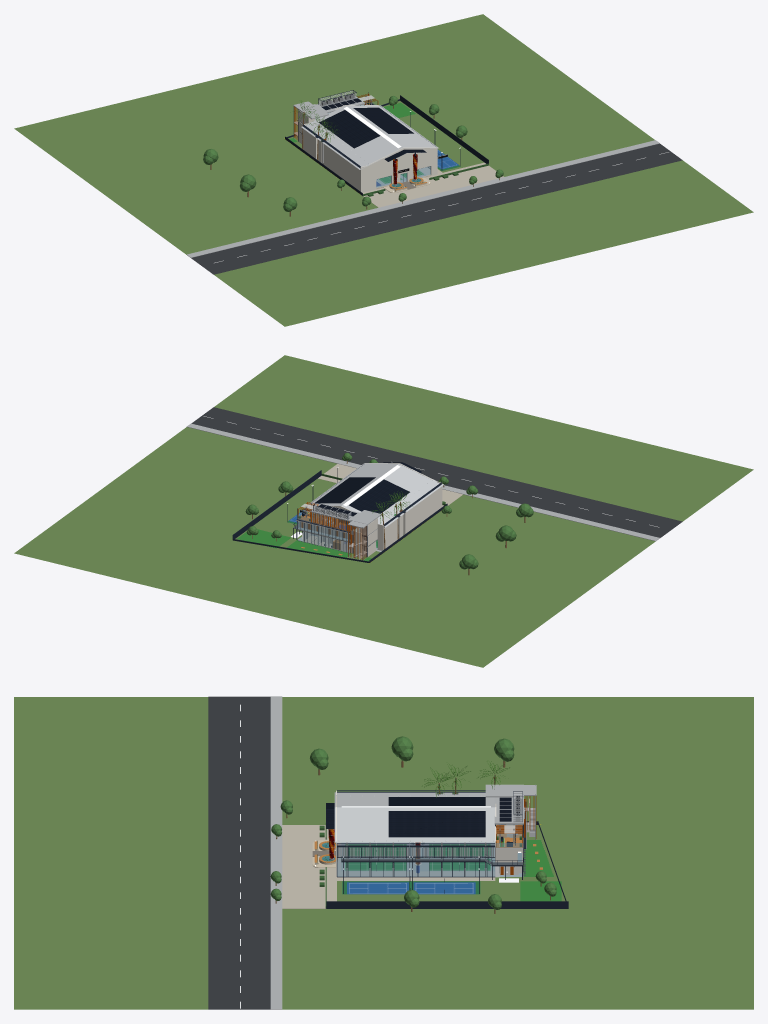
Rendered from MyPlace_Master_vR45.dae.
3 views of the same model, one above another, from view 1: azimuth 30°, elevation 25°; view 2: azimuth 150°, elevation 25°; view 3: azimuth 270°, elevation 25° (orthographic). The views are drawn at different scales.
Visible parts, largest first — view 1: site__grass, site__asphalt, hall_shell__plaster, hall_roof__roofSheet, site__concrete, hall_roof__solar, site__paving, trees__treeCrown, fences__charcoal; view 2: site__grass, site__asphalt, hall_roof__roofSheet, site__concrete, hall_roof__solar, hall_shell__plaster, trees__treeCrown, fences__charcoal, outdoor__turf, site__paving, rear_roof__concrete; view 3: site__grass, site__asphalt, site__concrete, hall_roof__roofSheet, site__paving, hall_shell__glass, hall_roof__solar, trees__treeCrown, hall_interior__court, fences__charcoal, hall_shell__charcoal, outdoor__pickleTex (+7 smaller).
Part boxes in pixels (x1,y1,x2,y2): site__grass: [14, 14, 753, 326]; site__asphalt: [191, 143, 682, 274]; hall_shell__plaster: [302, 105, 437, 192]; hall_roof__roofSheet: [301, 105, 438, 169]; site__concrete: [187, 140, 659, 257]; hall_roof__solar: [319, 107, 413, 148]; site__paving: [362, 162, 503, 207]; trees__treeCrown: [203, 96, 503, 211]; fences__charcoal: [285, 95, 488, 195]; site__grass: [14, 355, 753, 667]; site__asphalt: [191, 407, 682, 537]; hall_roof__roofSheet: [309, 463, 443, 527]; site__concrete: [186, 423, 659, 551]; hall_roof__solar: [314, 477, 409, 513]; hall_shell__plaster: [308, 463, 442, 550]; trees__treeCrown: [245, 452, 533, 569]; fences__charcoal: [232, 470, 447, 562]; outdoor__turf: [237, 529, 371, 561]; site__paving: [318, 464, 462, 506]; rear_roof__concrete: [311, 503, 381, 528]; site__grass: [14, 697, 753, 1009]; site__asphalt: [208, 696, 270, 1009]; site__concrete: [270, 696, 499, 1009]; hall_roof__roofSheet: [334, 792, 495, 842]; site__paving: [282, 825, 495, 908]; hall_shell__glass: [337, 847, 495, 876]; hall_roof__solar: [388, 797, 485, 837]; trees__treeCrown: [270, 736, 556, 909]; hall_interior__court: [345, 844, 490, 870]; fences__charcoal: [326, 821, 568, 908]; hall_shell__charcoal: [335, 790, 495, 877]; outdoor__pickleTex: [347, 882, 475, 894].
Bounding box in the file's own units: 160 × 160 × 16.22.
Materials: 72 (6 with a texture image).
